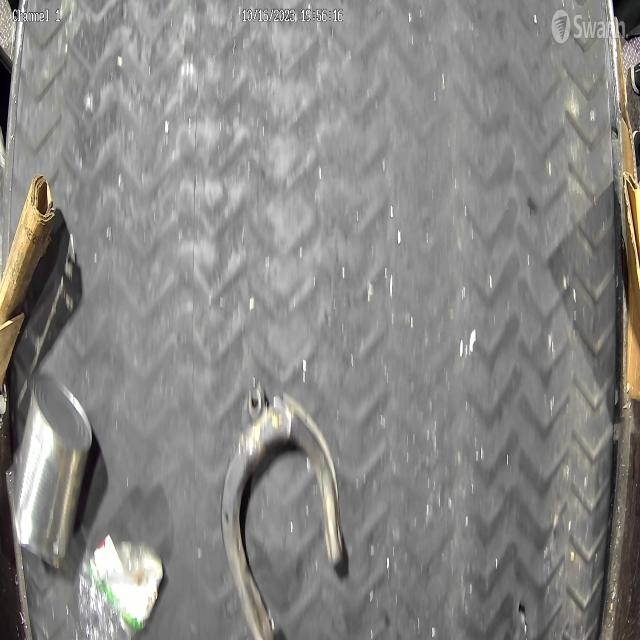can: (5, 369, 94, 570)
plastic_bottle: (75, 529, 155, 640)
